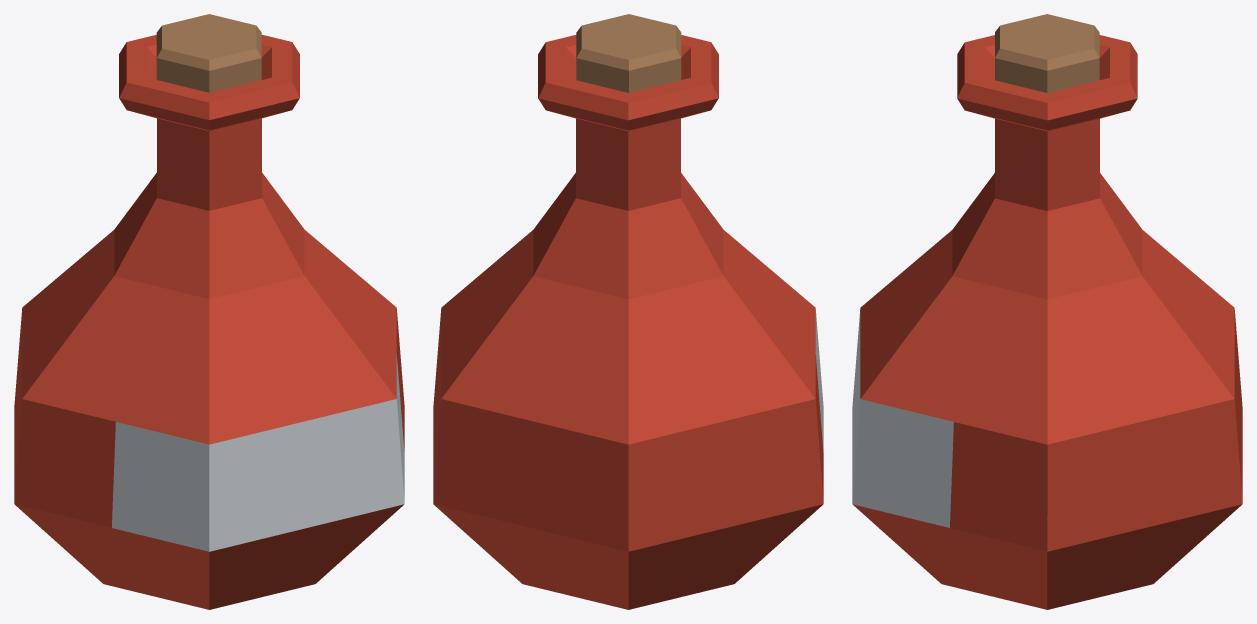
The model's file is Red_Potion_3(Label).fbx.
The picture shows the model from 3 angles, left to right: view 1: azimuth 30°, elevation 25°; view 2: azimuth 150°, elevation 25°; view 3: azimuth 270°, elevation 25°; orthographic projection.
Parts seen in each view (by area): view 1: Red_Potion_3(Label); view 2: Red_Potion_3(Label); view 3: Red_Potion_3(Label).
Part boxes in pixels (box(x1,y1,x2,y2)): Red_Potion_3(Label): box(14, 14, 404, 609); Red_Potion_3(Label): box(433, 14, 823, 609); Red_Potion_3(Label): box(852, 14, 1242, 609).
Bounding box in the file's own units: 21.88 × 27.9 × 18.95.
